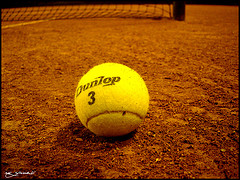tennis ball: (73, 61, 151, 139)
